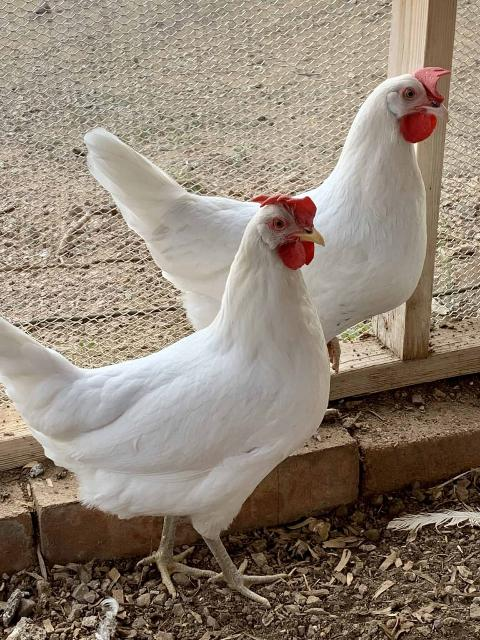Chicken: (0, 192, 331, 607), (84, 60, 452, 371)
